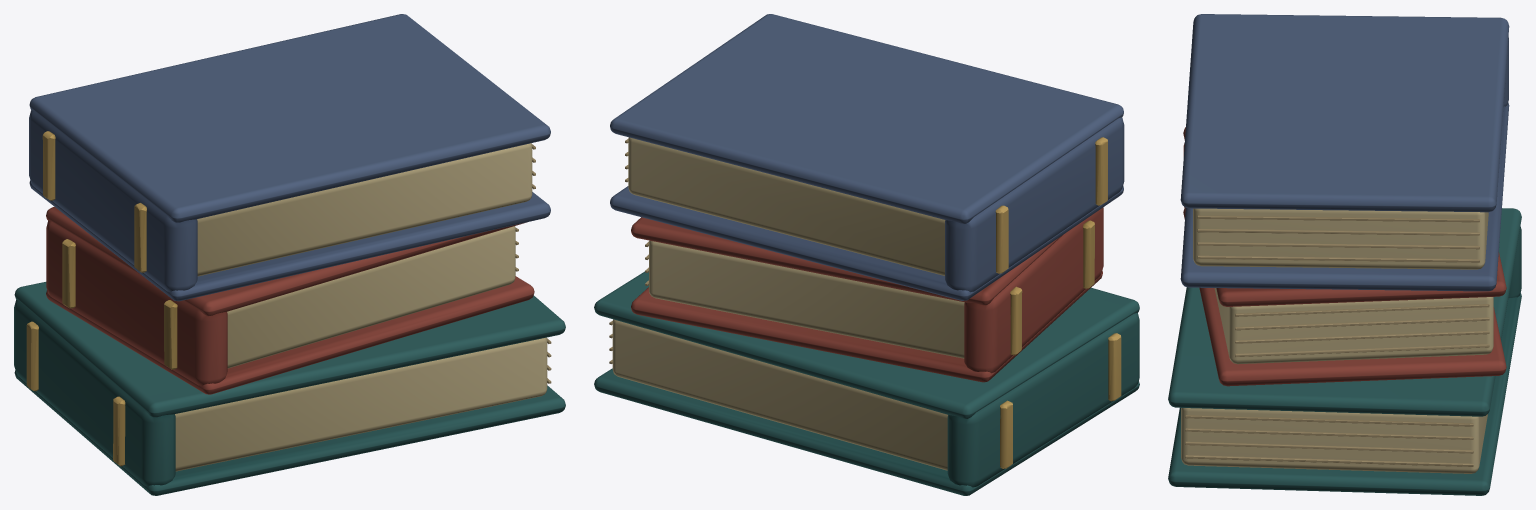
Rendered from fw_books_stack.glb.
3 views of the same model, side by side, from view 1: azimuth 30°, elevation 25°; view 2: azimuth 150°, elevation 25°; view 3: azimuth 270°, elevation 25° (orthographic). The views are drawn at different scales.
Visible parts, largest first — view 1: body; view 2: body; view 3: body.
Part boxes in pixels (x1,y1,x2,y2): body: (14,14,565,495); body: (594,14,1139,495); body: (1168,14,1521,495).
Size of the model in its own units: 0.7414 by 0.475 by 0.5261.
